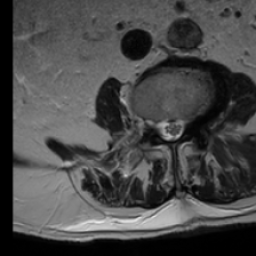CCS_stenosis: (166, 111, 176, 145)
LFS_severe_stenosis: (186, 108, 195, 139)
LLS_normal: (176, 111, 186, 141)
RFS_normal: (147, 111, 156, 139)
RLS_normal: (156, 113, 166, 144)
